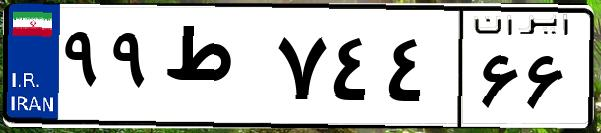4: (385, 28, 445, 110), (330, 28, 385, 110)
6: (475, 38, 525, 113), (525, 38, 570, 115)
7: (270, 28, 330, 110)
9: (57, 26, 110, 100), (110, 28, 158, 98)
ط: (158, 20, 270, 120)
